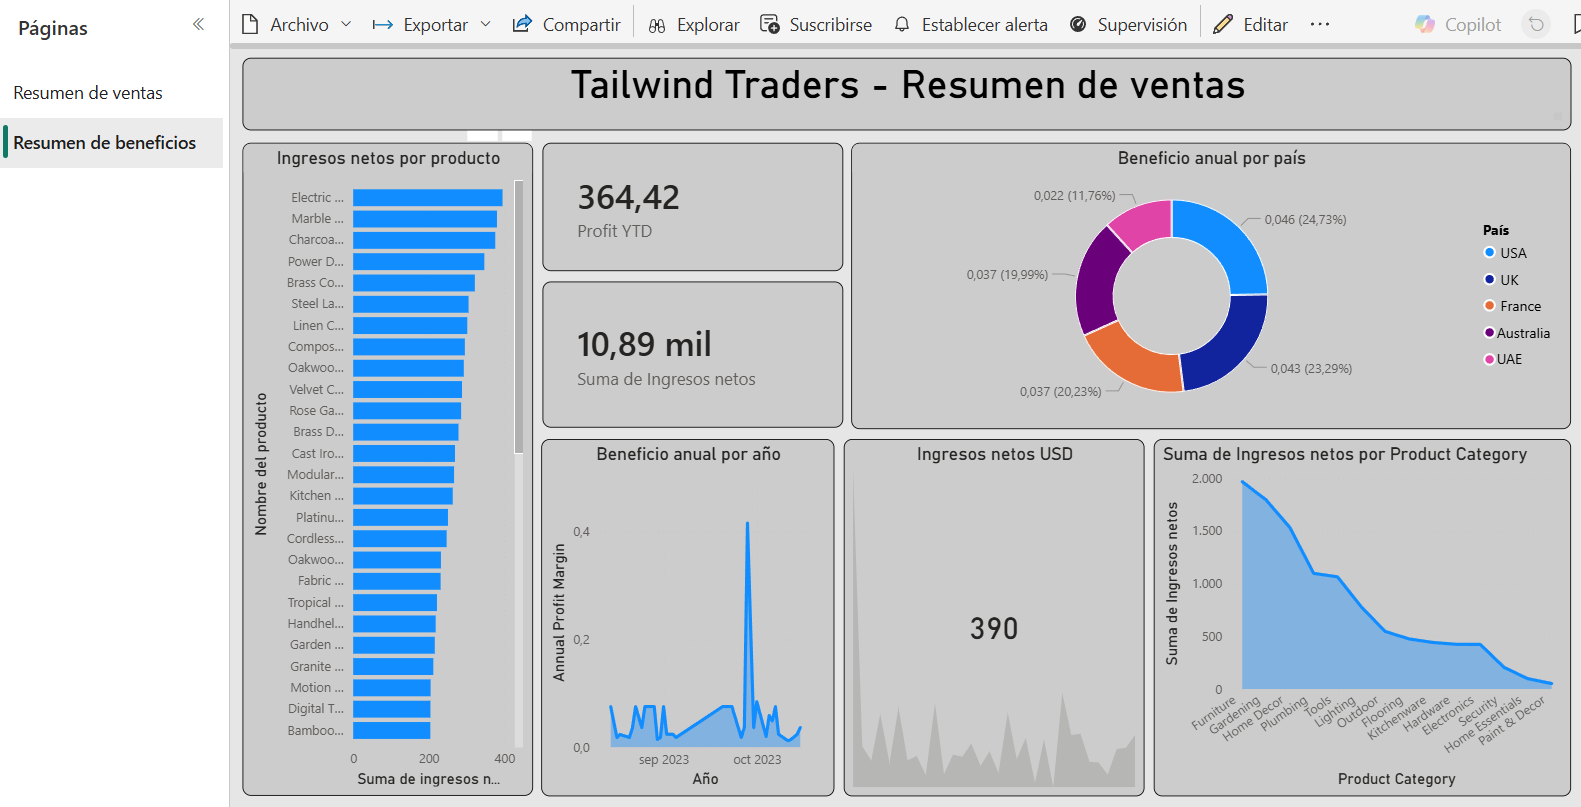

What the dashboard file says about the page in this screenshot:
{"tool":"powerbi","page":{"name":"Resumen de beneficios","canvas":[1280,720],"ordinal":1},"visuals":[{"type":"barChart","title":"Ingresos netos por producto","fields":{"Y":["Sum(Sales.Ingresos netos)"],"Category":["Sales.Product Name"]},"box":[11.2,88.8,275,618.8],"z":0},{"type":"donutChart","title":"Beneficio anual por país","fields":{"Category":["Countries.Country"],"Y":["Sales.Annual Profit Margin"]},"box":[588.8,88.8,681.2,271.2],"z":1000},{"type":"areaChart","title":"Beneficio anual por año","fields":{"Category":["CalendarTable.Date.Variación.Jerarquía de fechas.Año","CalendarTable.Date.Variación.Jerarquía de fechas.Trimestre","CalendarTable.Date.Variación.Jerarquía de fechas.Mes","CalendarTable.Date.Variación.Jerarquía de fechas.Día"],"Y":["Sales.Annual Profit Margin"]},"box":[295,368.8,277.5,338.8],"z":2000},{"type":"cardVisual","fields":{"Data":["Sales.Profit YTD"]},"box":[296.2,88.8,285,121.2],"z":3000},{"type":"cardVisual","fields":{"Data":["Sum(Sales_in_USD.Ingresos netos)"]},"box":[296.2,220,285,138.8],"z":4000},{"type":"kpi","title":"Ingresos netos USD","fields":{"Indicator":["Sum(Sales_in_USD.Ingresos brutos)"],"TrendLine":["CalendarTable.Date"]},"box":[581.2,368.8,285,338.8],"z":5000},{"type":"areaChart","fields":{"Y":["Sum(Sales.Ingresos netos)"],"Category":["Sales.Product Category"]},"box":[875,368.8,395,338.8],"z":6000},{"type":"textbox","title":"Tailwind Traders - Resumen de ventas","box":[11.2,8.8,1258.8,68.8],"z":7000}]}

Visuals, with their boxes in screenshot pixels (x1, y1, x2, y2):
"Ingresos netos por producto" barChart: 230 136 523 796
"Beneficio anual por país" donutChart: 846 136 1572 425
"Beneficio anual por año" areaChart: 533 434 829 796
cardVisual - Sales.Profit YTD: 534 136 838 265
cardVisual - Sum(Sales_in_USD.Ingresos netos): 534 276 838 424
"Ingresos netos USD" kpi: 838 434 1142 796
areaChart - Sum(Sales.Ingresos netos) x Sales.Product Category: 1151 434 1572 796
"Tailwind Traders - Resumen de ventas" textbox: 230 51 1572 124
